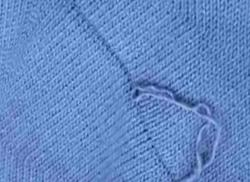snag: (122, 77, 177, 110)
